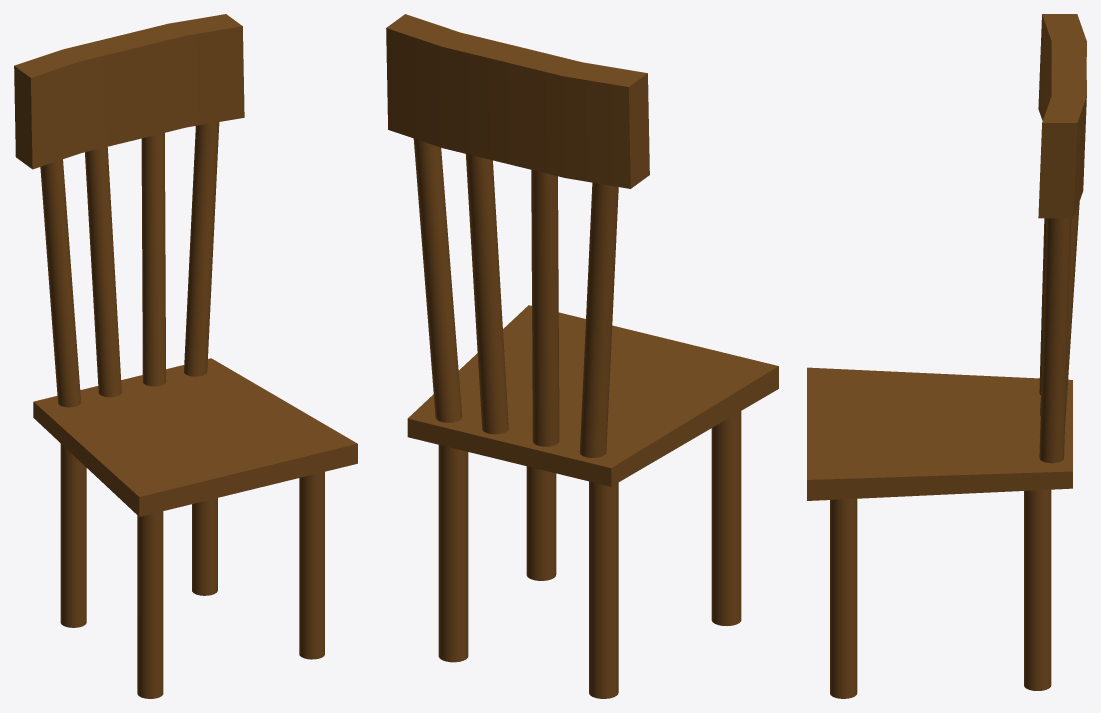
The model's file is chair_contents.fbx.
3 renders of one model, left to right at view 1: azimuth 30°, elevation 25°; view 2: azimuth 150°, elevation 25°; view 3: azimuth 270°, elevation 25°, orthographic. The views are drawn at different scales.
Parts seen in each view (by area): view 1: pCube11; view 2: pCube11; view 3: pCube11.
Part boxes in pixels (left/top/right/bottom): pCube11: left=14, top=14, right=357, bottom=698; pCube11: left=386, top=14, right=778, bottom=698; pCube11: left=807, top=14, right=1086, bottom=698.
Bounding box in the file's own units: 34.33 × 82.97 × 36.1.
